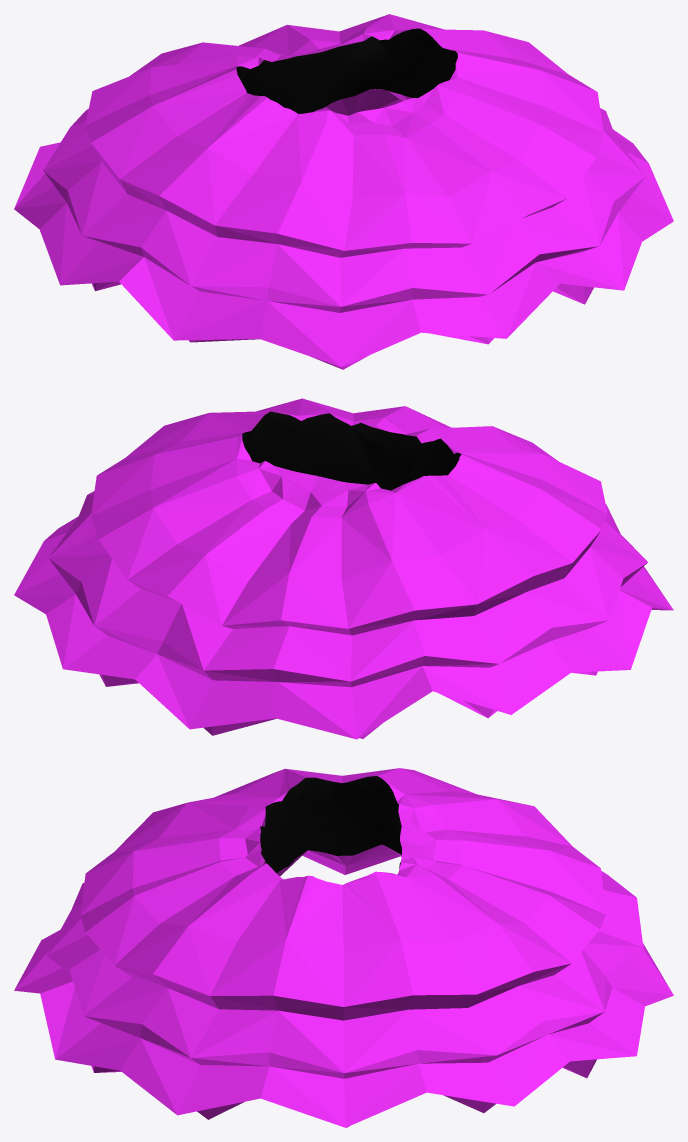
The model's file is Toto.FBX.
3 renders of one model, top to bottom at view 1: azimuth 30°, elevation 25°; view 2: azimuth 150°, elevation 25°; view 3: azimuth 270°, elevation 25°, orthographic. The views are drawn at different scales.
Parts seen in each view (by area): view 1: Toto; view 2: Toto; view 3: Toto.
Boxes of the visible parts, bbox=[...] form: Toto: bbox=[14, 14, 673, 369]; Toto: bbox=[14, 398, 673, 739]; Toto: bbox=[14, 768, 673, 1127].
Bounding box in the file's own units: 78.41 × 25.55 × 76.2.
